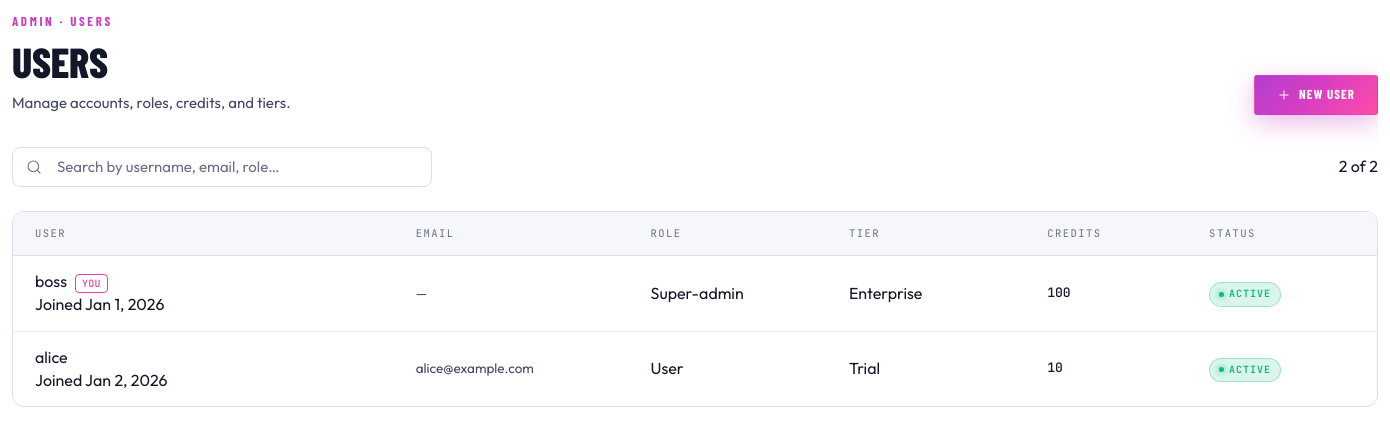
Test: AdminUsers › filters by username when typing in the search box
This screenshot has width=1390, height=424.
Expected: the element with test id "admin-user-row-boss" is shown, [13,256,1377,332]
Type "alice" into the field with test id "admin-users-search". click: (222, 167)
box: [12,147,432,187]
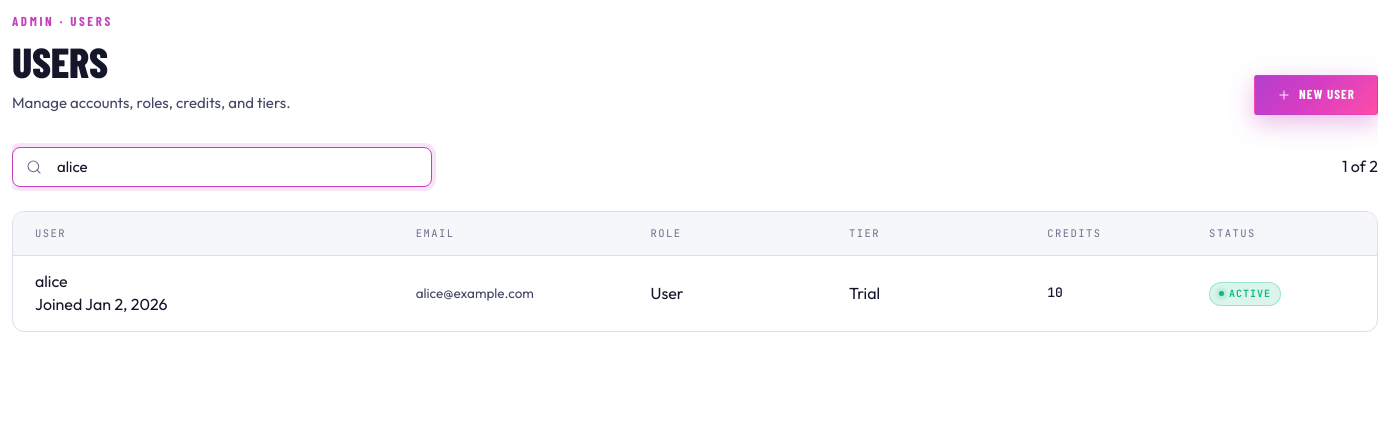
Expected: the element with test id "admin-user-row-alice" is shown, [35,271,1281,314]
Expected: the element with test id "admin-user-row-boss" is gone
